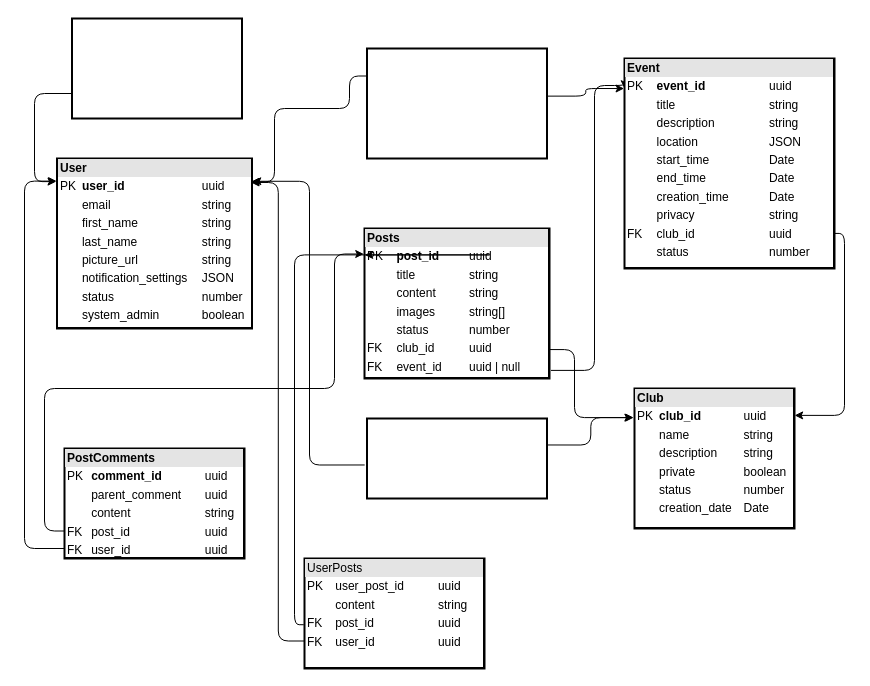
This 870x686 diagram has some shape labels left out. The centre of each missing label's shape, as x and y in pixels:
ClubUser FK club_id uuid FK user_id uuid role string: (x=457, y=458)
EventUser FK user_id uuid FK event_id uuid rsvp string notified_status boolean: (x=457, y=103)
Session PK session_id string expires number data string FK user_id uuid: (x=156, y=68)
